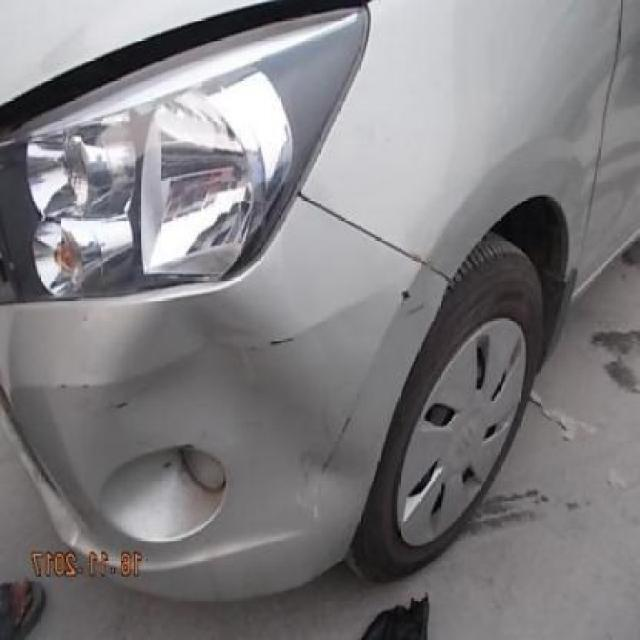damage: (117, 310, 301, 436)
